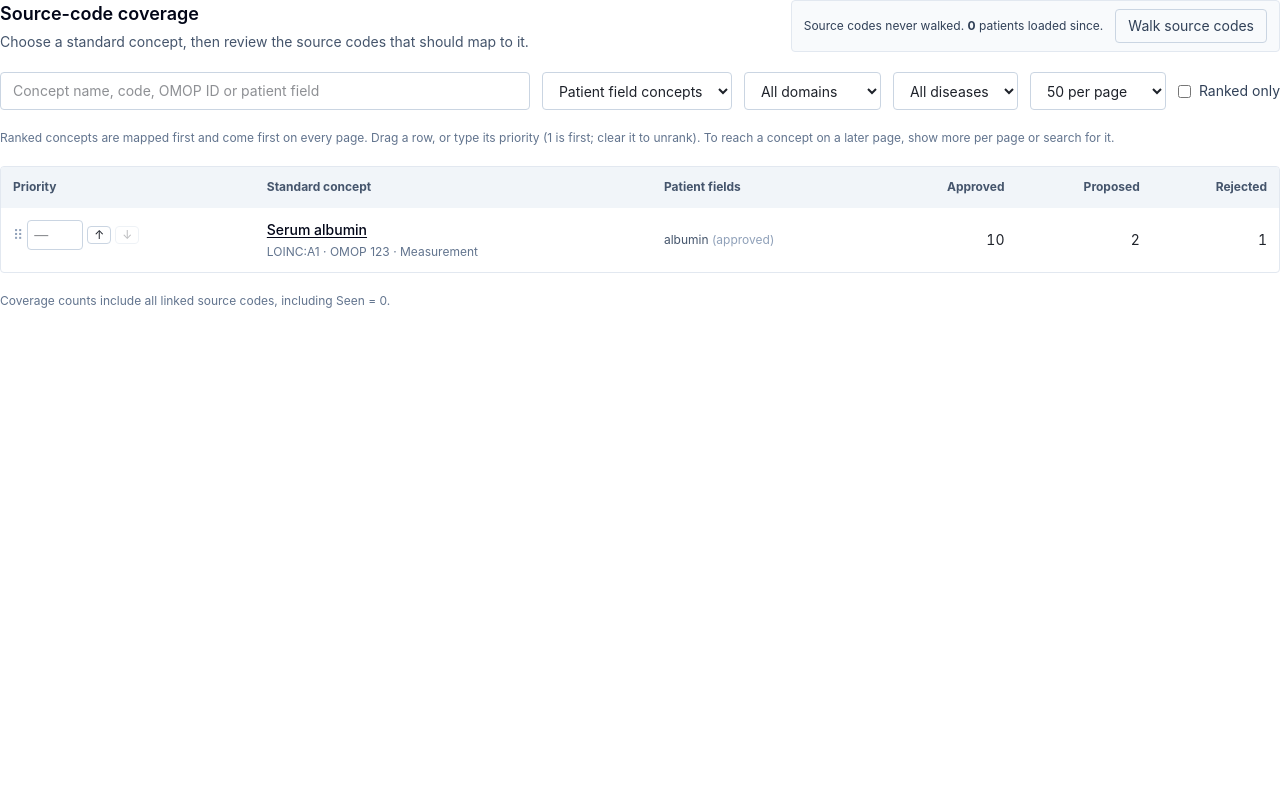
Test: concept-first curation › refreshes the concept when a candidate was proposed but its approval failed
Click the button "Serum albumin": (317, 230) [267,220,367,240]
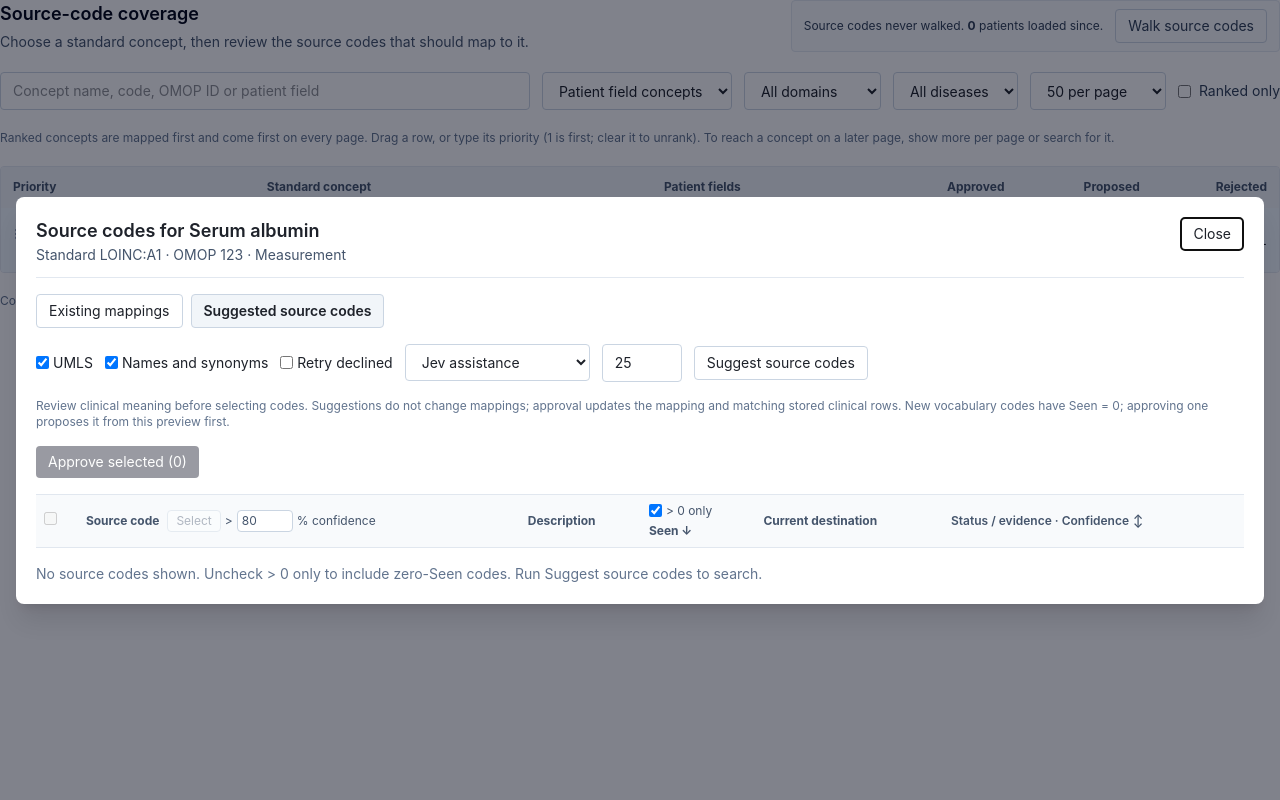
Click the button "Existing mappings": (109, 310) [36,294,182,328]
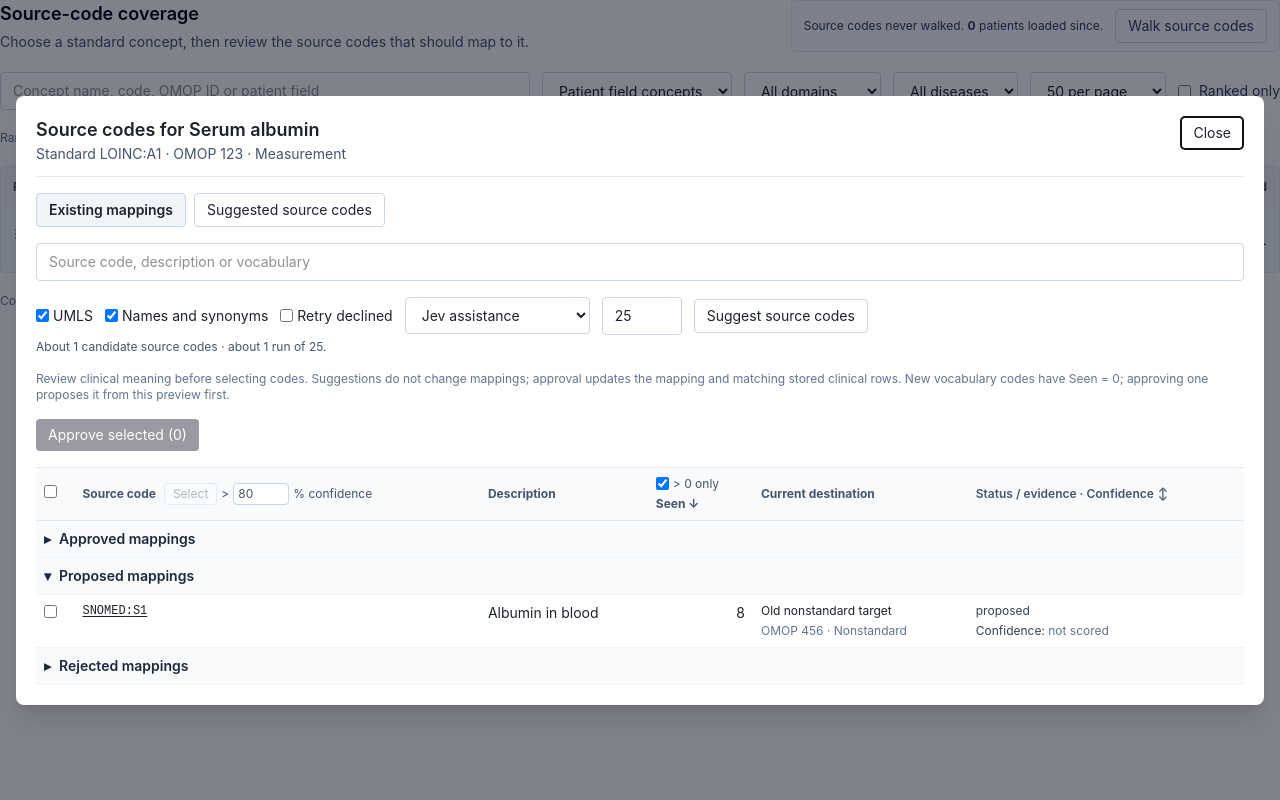
Now the button "SNOMED:S1" is shown, box [82,602,147,618]
Click the checkbox named "Only source codes with Seen greater than zero": (662, 484) [656,477,669,490]
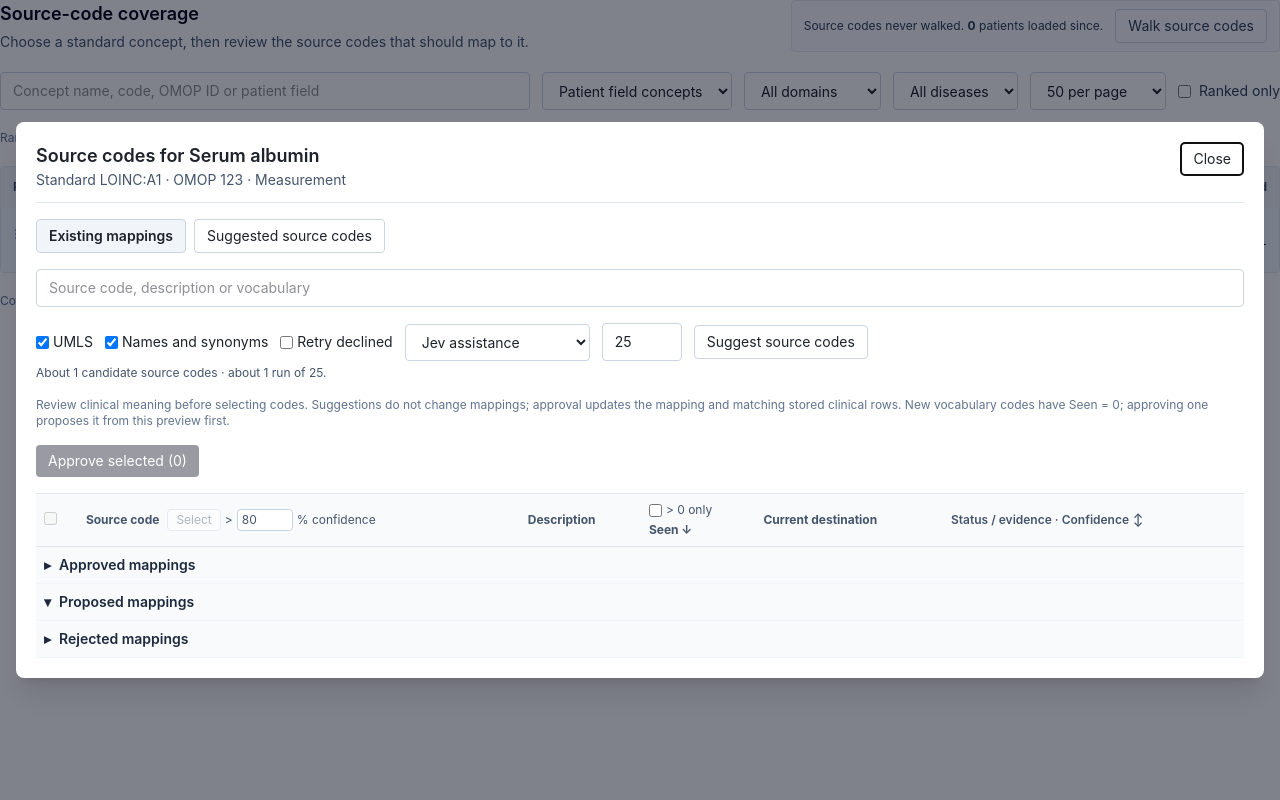
Click the button "Suggest source codes": (781, 342) [694,325,868,359]
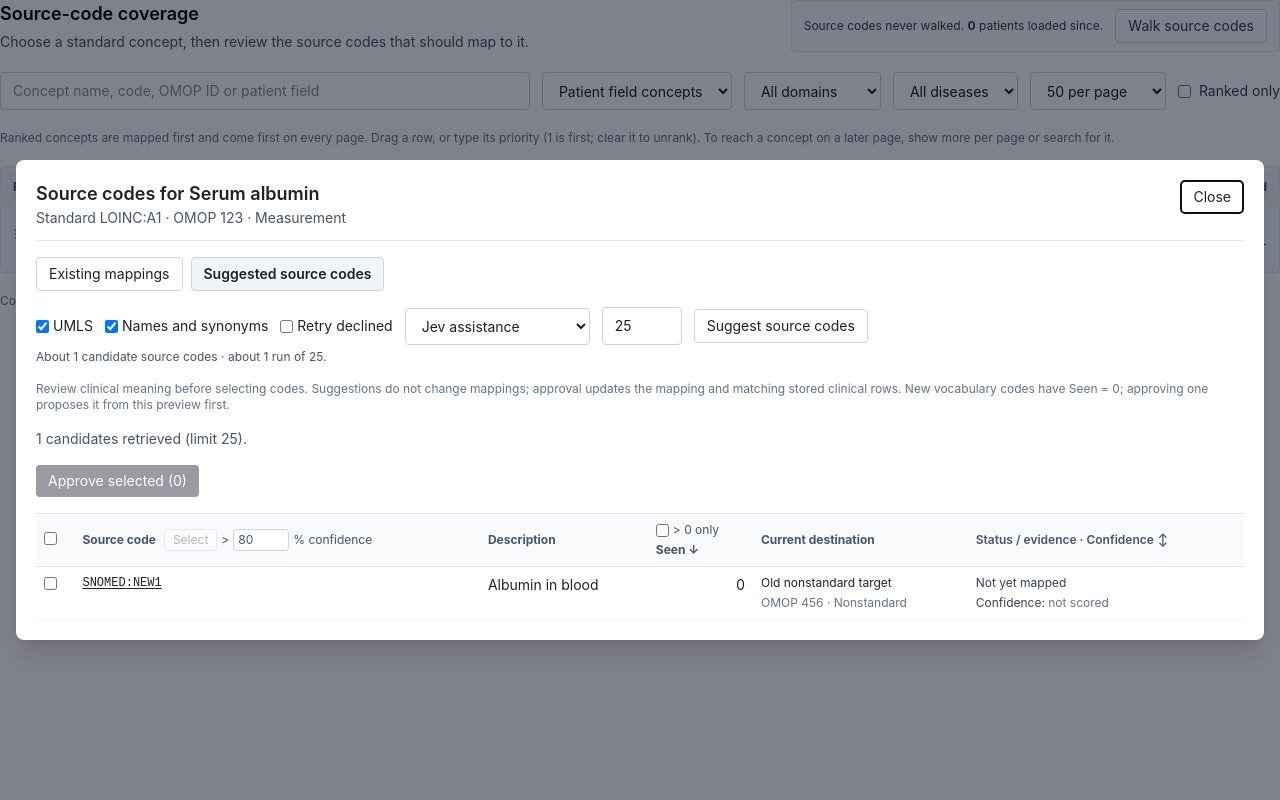
Now the text "Not yet mapped" is shown, box [976,575,1066,590]
Click the checkbox named "Select SNOMED NEW1": (50, 584) [44,577,57,590]
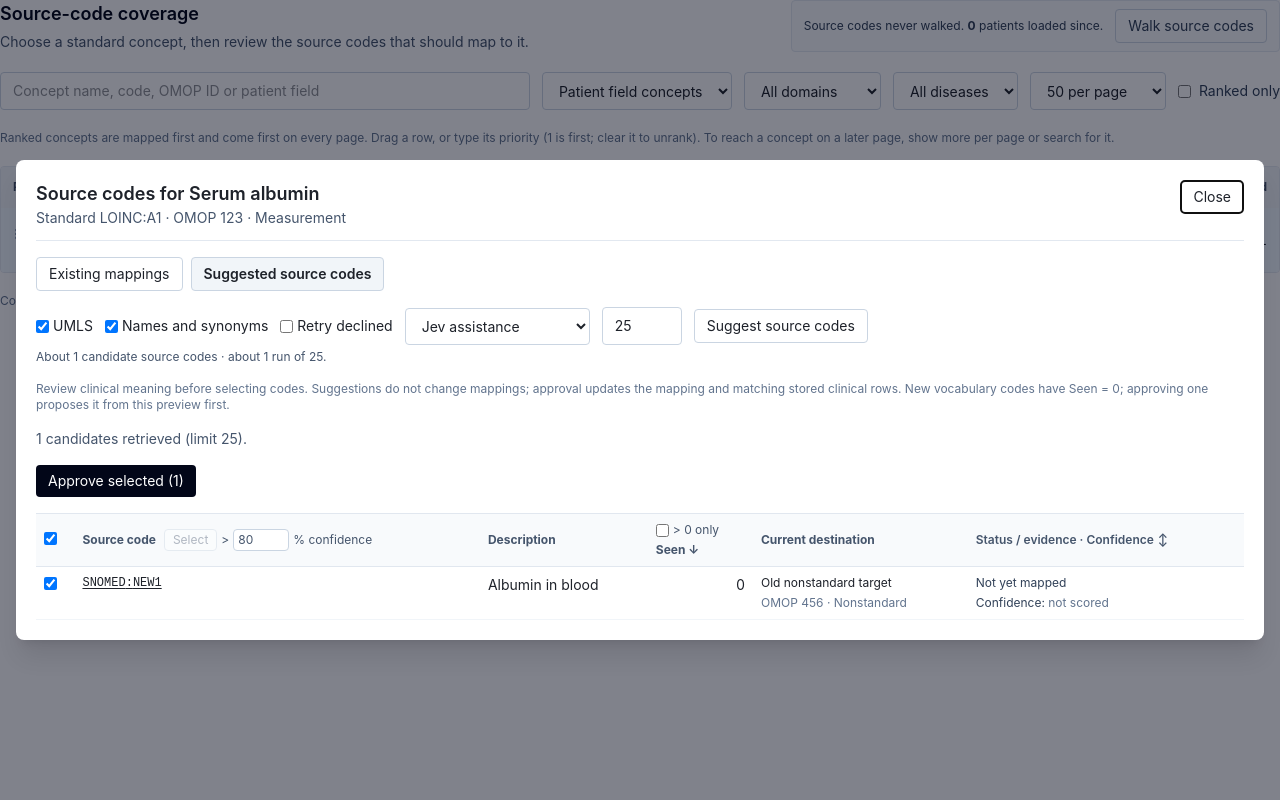
Click the button "Approve selected (1)": (116, 481) [36,465,196,497]
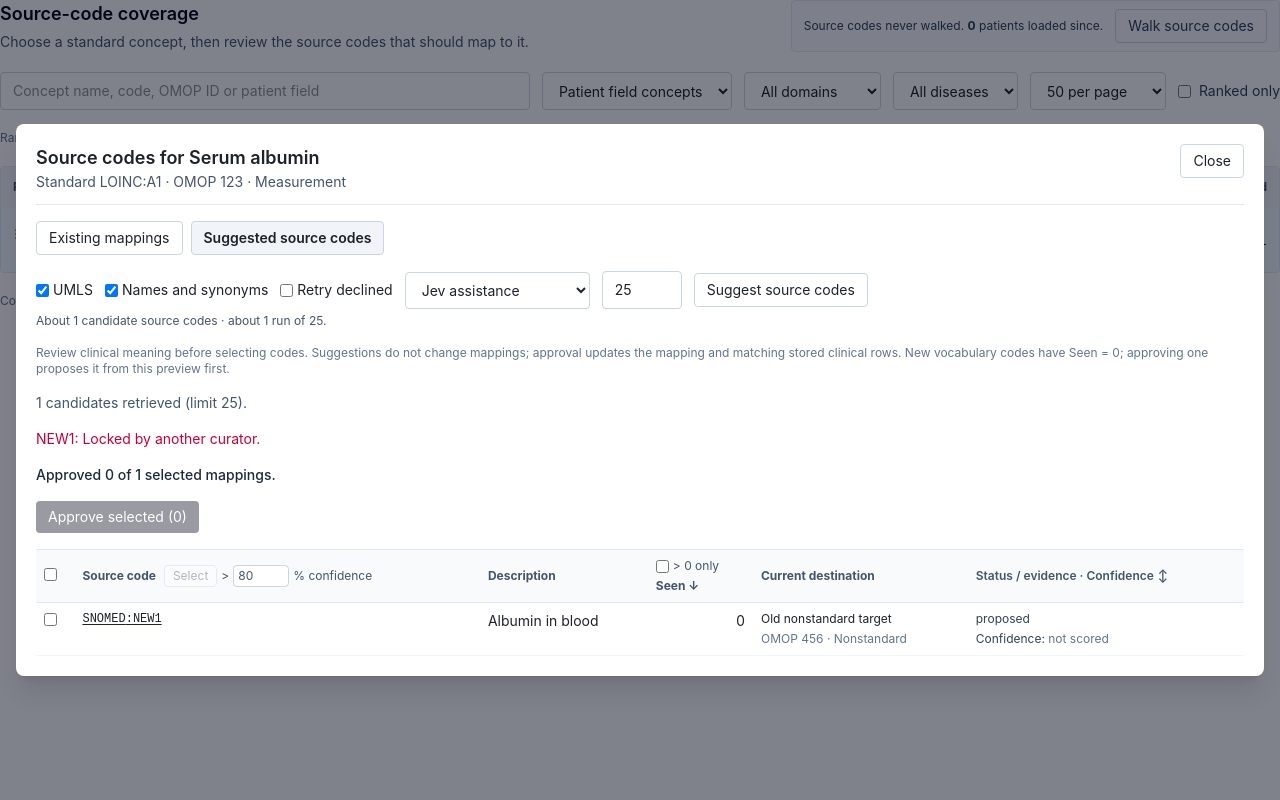
Now the text "Approved 0 of 1 selected mappings." is shown, box [36,466,276,483]
Now the message "NEW1: Locked by another curator." is shown, box [36,430,260,447]
Now the text "proposed" is shown, box [976,611,1030,626]
